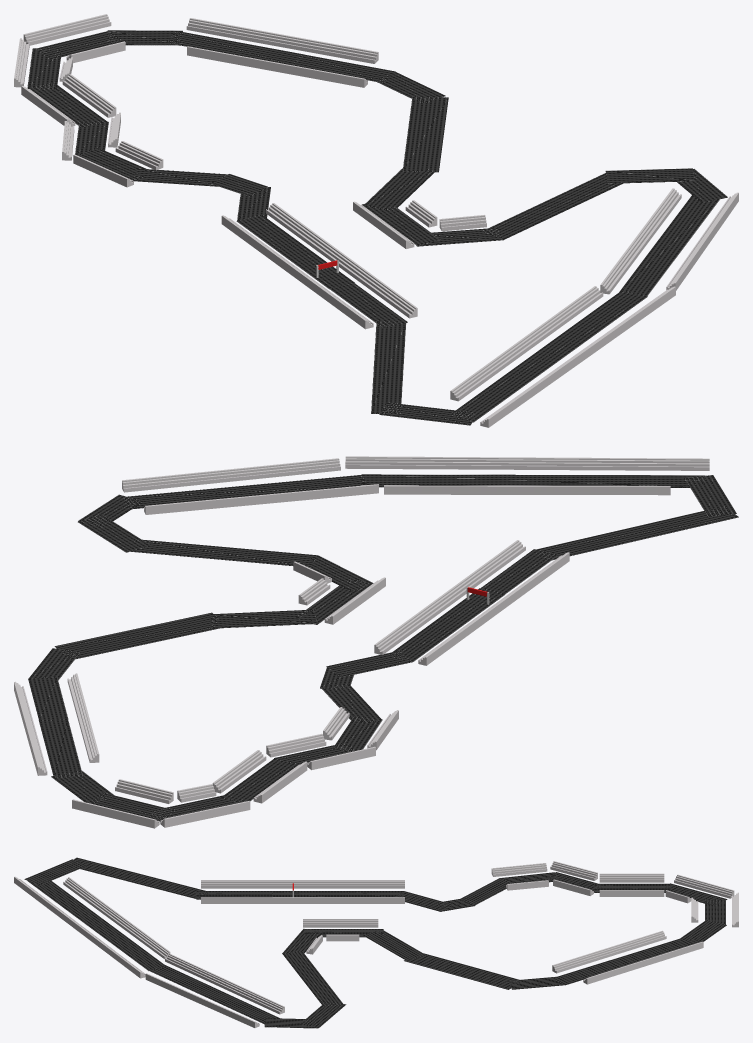
File: Course01.fbx
The picture shows the model from 3 angles, top to bottom: view 1: azimuth 30°, elevation 25°; view 2: azimuth 150°, elevation 25°; view 3: azimuth 270°, elevation 25°; orthographic projection. The views are drawn at different scales.
Visible parts, largest first — view 1: Box025, Box026, Box014, Box012, Box038, Box033, Box031, Box032, Box005, Box035, Box036, Box020 (+25 smaller); view 2: Box032, Box025, Box050, Box033, Box014, Box026, Box012, Box031, Box005, Box051, Box035, Box020 (+29 smaller); view 3: Box025, Box035, Box026, Box031, Box014, Box012, Box033, Box051, Box005, Box032, Box036, Box038 (+28 smaller).
Part boxes in pixels (x1,y1,x2,y2): Box025: (452,290,647,422); Box026: (619,195,719,295); Box014: (402,96,448,172); Box012: (371,320,406,413); Box038: (186,18,378,63); Box033: (450,286,603,401); Box031: (265,203,417,318); Box032: (480,286,675,427); Box005: (483,173,623,239); Box035: (221,215,373,329); Box036: (187,46,367,87); Box020: (166,31,303,65); Box032: (345,456,709,470); Box025: (361,474,705,487); Box050: (122,458,340,492); Box033: (384,485,670,495); Box014: (54,612,220,659); Box026: (123,474,366,509); Box012: (536,506,738,561); Box031: (374,540,525,655); Box005: (130,539,316,567); Box051: (144,484,378,514); Box035: (418,552,569,665); Box020: (38,719,83,778); Box025: (28,876,166,970); Box035: (201,880,404,888); Box026: (149,965,279,1024); Box031: (201,897,404,903); Box014: (404,953,521,989); Box012: (66,857,207,898); Box033: (63,877,170,959); Box051: (165,953,284,1014); Box005: (282,951,343,1006); Box032: (14,876,145,978); Box036: (552,930,666,973); Box038: (583,941,703,984).
Size of the model in its own units: 26534 by 47589 by 639.
